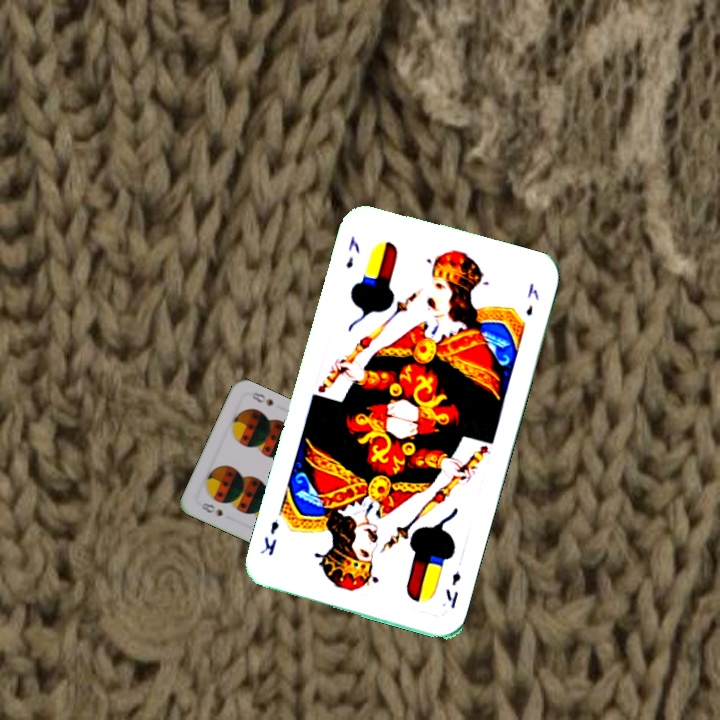EK: (441, 568, 464, 612), (341, 232, 362, 271)
S8: (197, 498, 225, 519)
